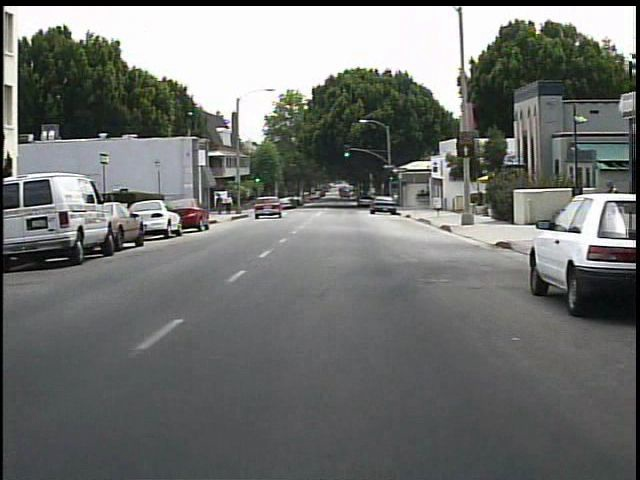person: (214, 194, 227, 217), (224, 195, 235, 217)
